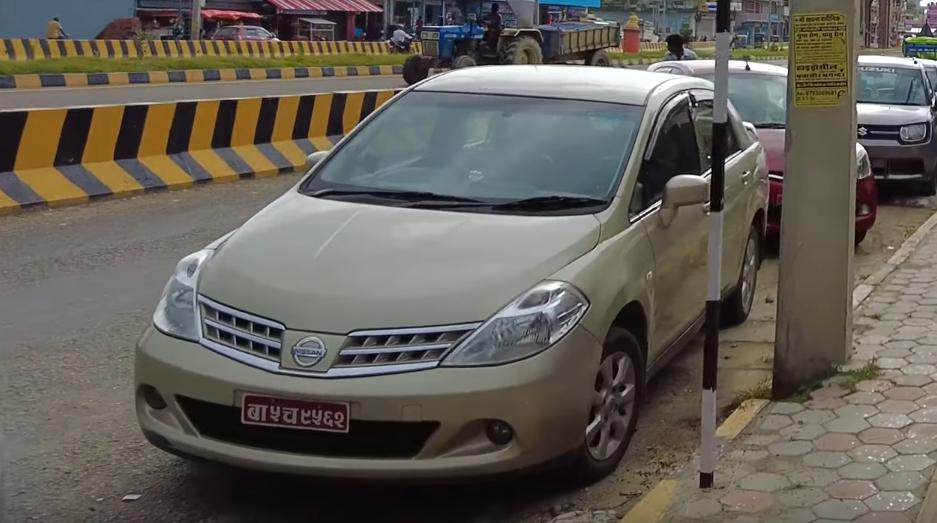car: (136, 56, 767, 489)
tractor: (394, 13, 629, 91)
